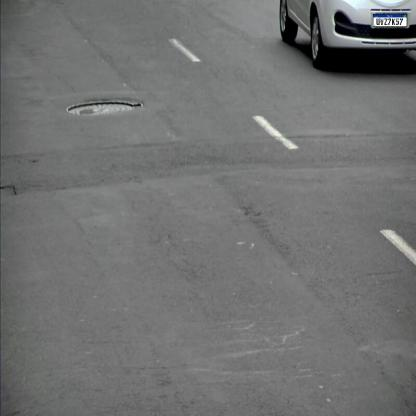PlacaM: (373, 14, 407, 27)
